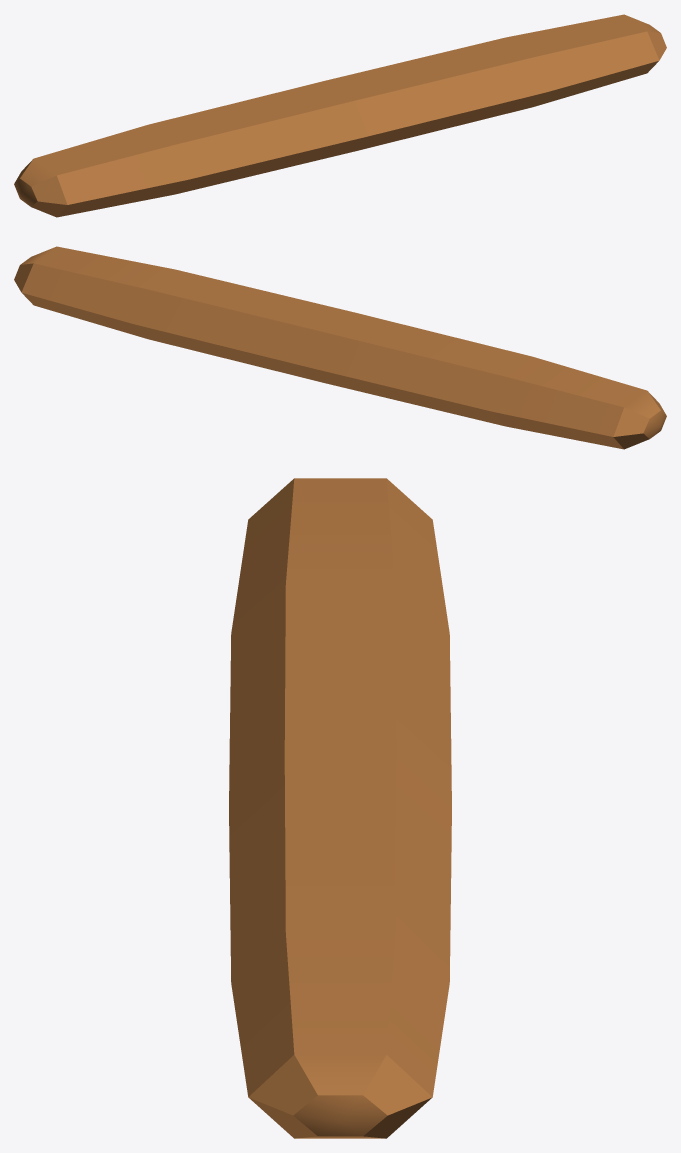
File: Baguette.fbx
3 renders of one model, top to bottom at view 1: azimuth 30°, elevation 25°; view 2: azimuth 150°, elevation 25°; view 3: azimuth 270°, elevation 25°, orthographic. The views are drawn at different scales.
Parts seen in each view (by area): view 1: Baguette; view 2: Baguette; view 3: Baguette.
Part boxes in pixels (box(x1,y1,x2,y2)): Baguette: box(14, 14, 666, 217); Baguette: box(14, 246, 666, 449); Baguette: box(229, 478, 451, 1138).
Size of the model in its own units: 13.24 by 1 by 2.
